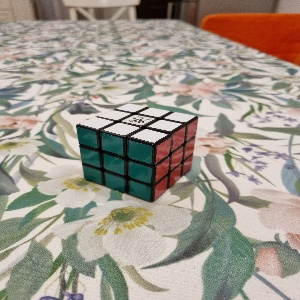cube: (76, 103, 199, 204)
